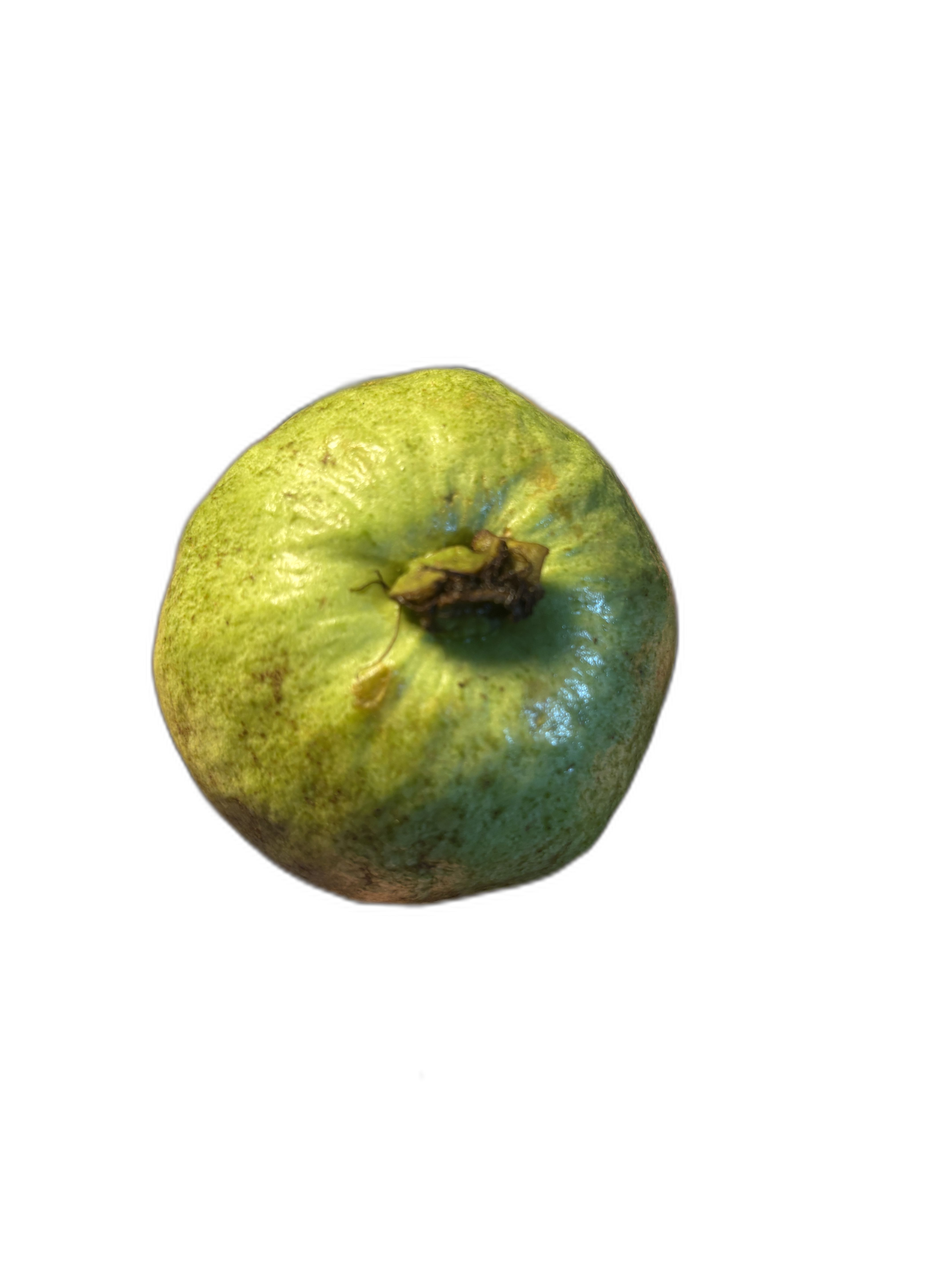guava: (241, 292, 883, 1189)
